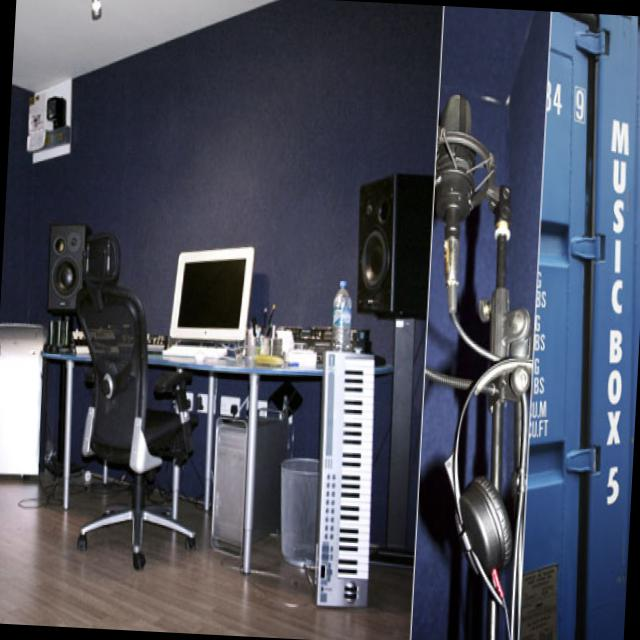bottle crop: (332, 278, 352, 350)
ceiling beam: (12, 0, 274, 92)
desk calendar: (40, 334, 393, 571)
door bars: (519, 12, 640, 640)
floor -X: (0, 455, 413, 640)
keyboard crop: (315, 349, 373, 603), (158, 343, 227, 361)
litter bin: (280, 457, 317, 568)
loudspeaker: (357, 170, 431, 314), (47, 221, 91, 309)
monitor crop: (169, 244, 253, 340)
stand clothes: (407, 6, 551, 640)
swivel chair crop: (74, 227, 193, 568)
wall clock: (26, 0, 442, 554), (0, 78, 35, 460)
